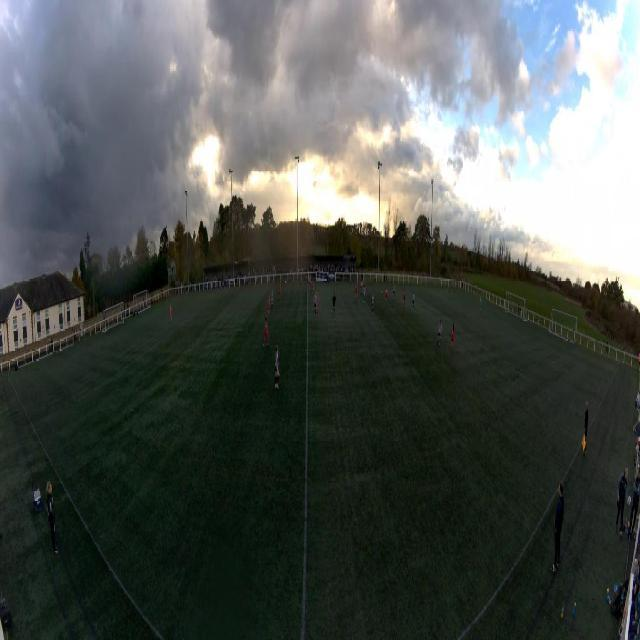ball: (381, 290, 382, 294)
player: (275, 343, 280, 389), (263, 316, 269, 348), (450, 324, 455, 354), (437, 320, 442, 348), (370, 293, 375, 315), (332, 292, 337, 314), (313, 293, 318, 315), (363, 285, 368, 302), (411, 291, 415, 312), (169, 304, 173, 323), (267, 295, 270, 317), (311, 277, 315, 293), (308, 274, 312, 290), (403, 289, 406, 310), (392, 284, 396, 299), (278, 283, 281, 302), (271, 291, 274, 310), (385, 288, 388, 306), (355, 283, 358, 301), (360, 283, 363, 295), (480, 296, 482, 313), (363, 281, 366, 288)
